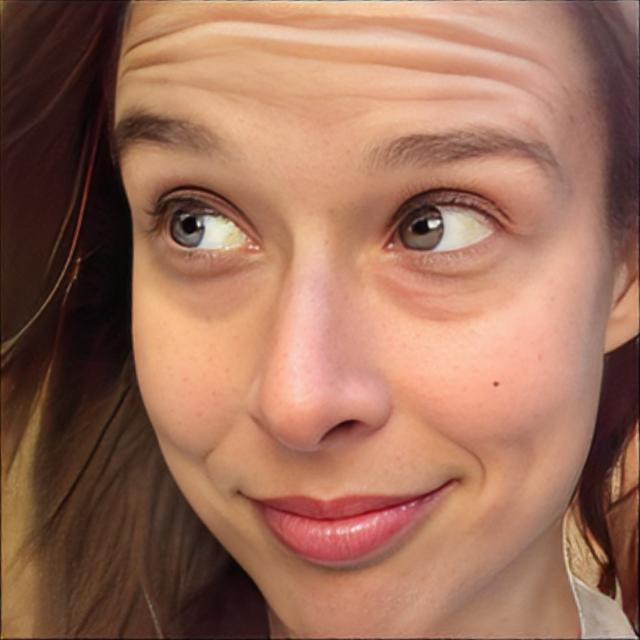surprise: (108, 0, 602, 638)
